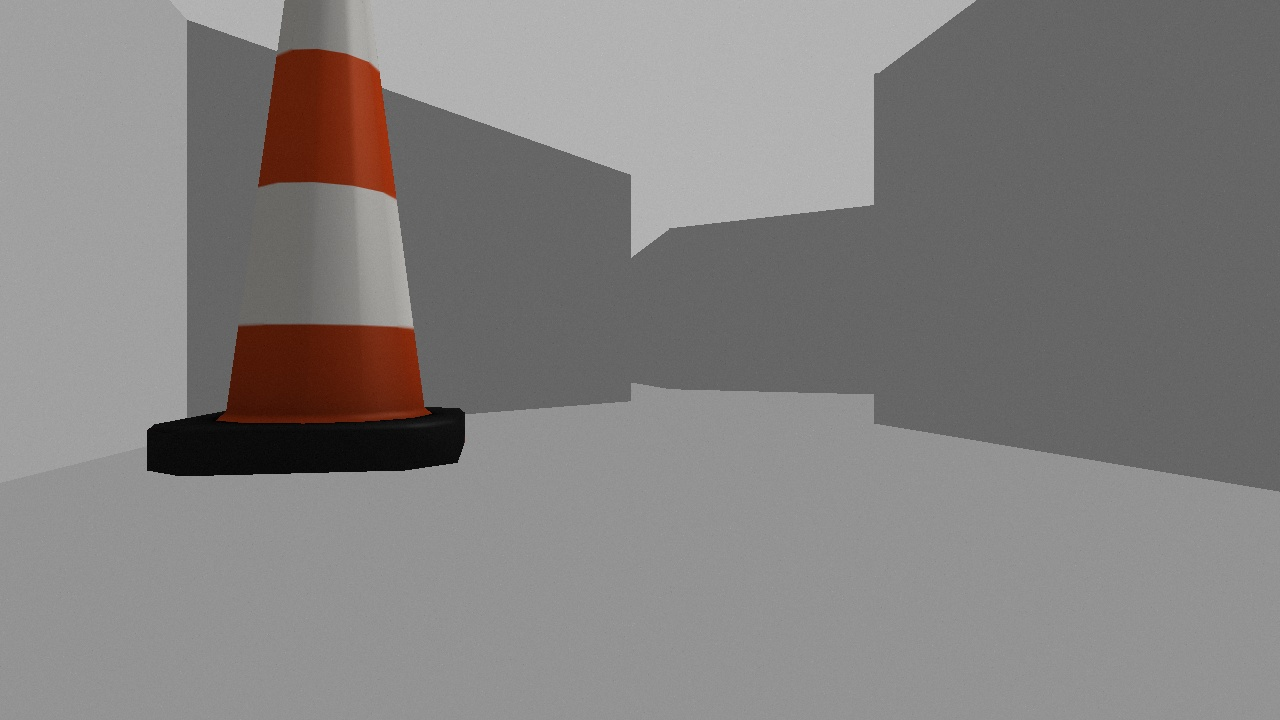barricade: (146, 1, 467, 475)
